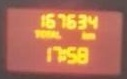1: (44, 46, 51, 63), (38, 12, 44, 28)
3: (76, 12, 86, 30)
4: (86, 14, 98, 29)
5: (65, 45, 76, 64)
6: (44, 12, 55, 29), (66, 11, 76, 29)
7: (51, 44, 60, 63), (55, 12, 65, 29)
8: (76, 46, 89, 64)
X: (86, 32, 96, 40), (33, 28, 39, 38), (39, 29, 45, 38), (80, 30, 86, 39), (61, 48, 65, 60), (50, 30, 55, 39), (55, 30, 60, 39), (45, 30, 50, 37)
